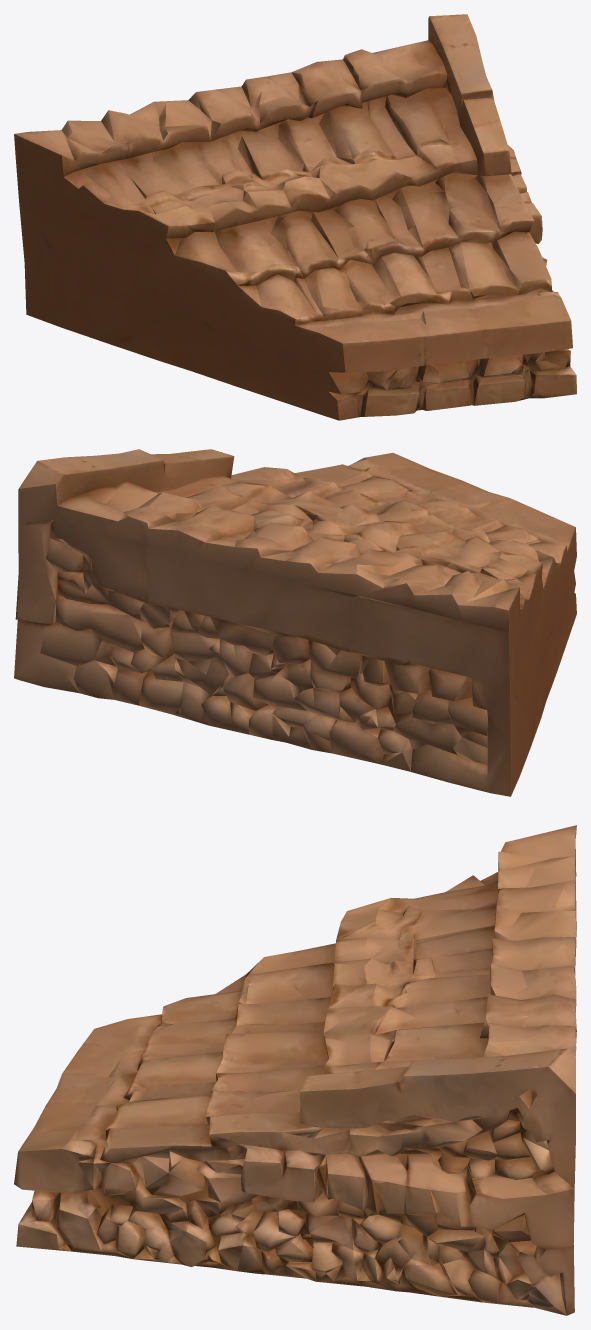
The model's file is m2RuinRoofSection.glb.
The picture shows the model from 3 angles, top to bottom: view 1: azimuth 30°, elevation 25°; view 2: azimuth 150°, elevation 25°; view 3: azimuth 270°, elevation 25°; orthographic projection. The views are drawn at different scales.
Parts seen in each view (by area): view 1: model; view 2: model; view 3: model.
Part boxes in pixels (box(x1,y1,x2,y2)): model: box(14, 14, 576, 420); model: box(14, 449, 576, 796); model: box(14, 825, 576, 1315).
Bounding box in the file's own units: 1.9 × 0.7919 × 1.65.
Materials: 1 (1 with a texture image).
